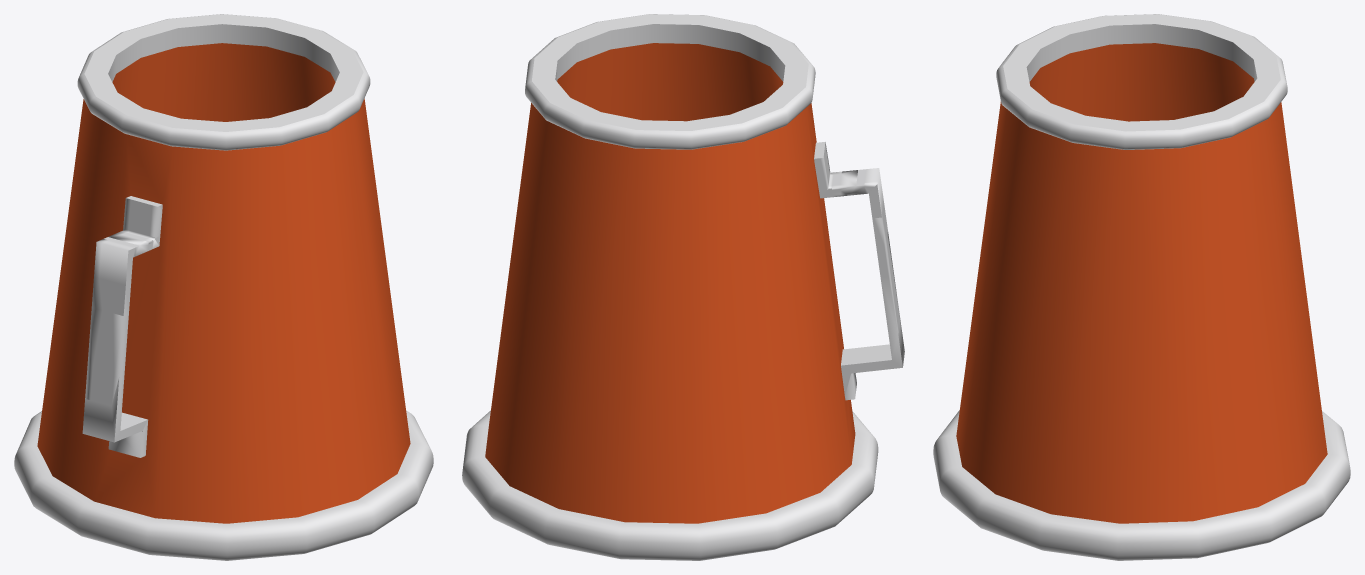
File: mug2.fbx
The picture shows the model from 3 angles, left to right: view 1: azimuth 30°, elevation 25°; view 2: azimuth 150°, elevation 25°; view 3: azimuth 270°, elevation 25°; orthographic projection.
Visible parts, largest first — view 1: Mug Body002; view 2: Mug Body002; view 3: Mug Body002.
Part boxes in pixels (x1,y1,x2,y2): Mug Body002: [14, 14, 433, 560]; Mug Body002: [462, 14, 904, 560]; Mug Body002: [933, 14, 1350, 560].
Size of the model in its own units: 8.41 by 8.27 by 8.86.
